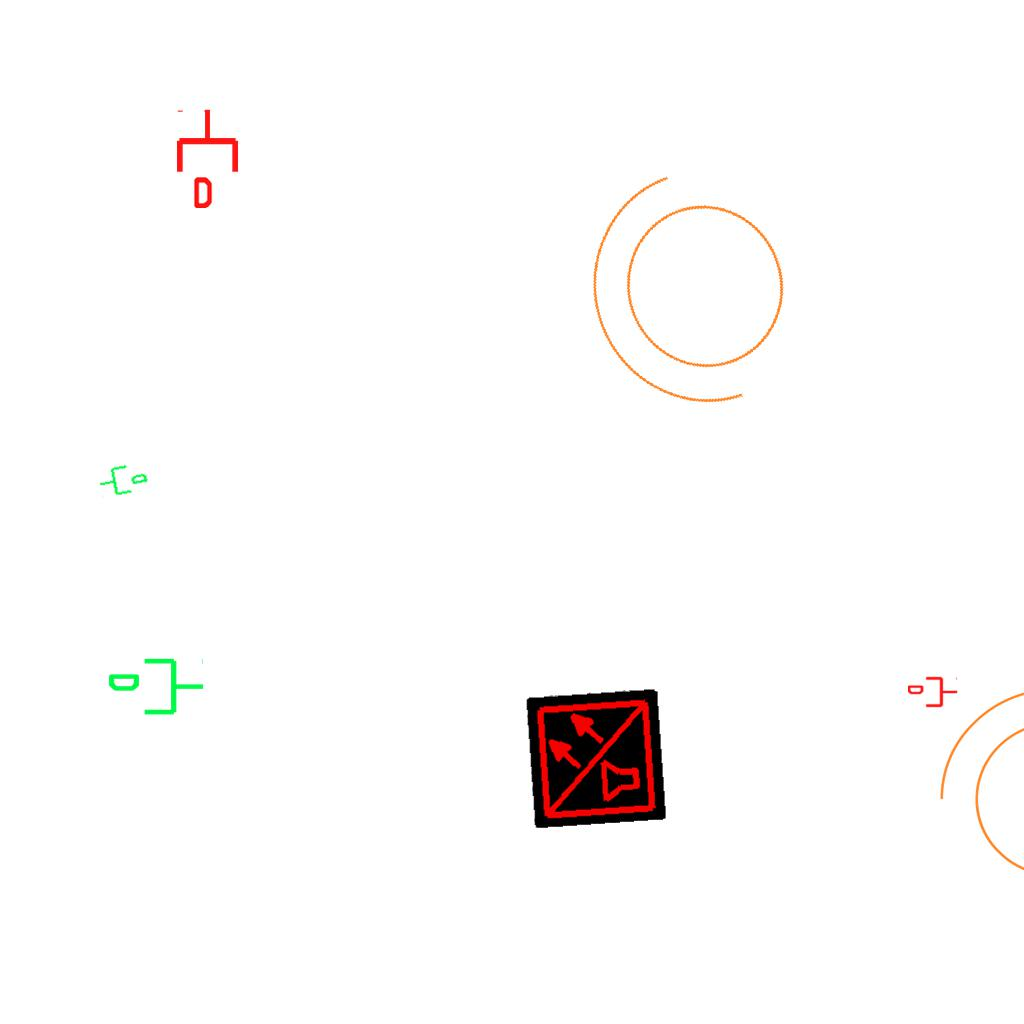Datenanschluss_einfach: (173, 108, 242, 208), (106, 654, 206, 723), (95, 457, 151, 501), (908, 675, 958, 709)
OKW_Multisensormelder_(Kombination_optischer_Rauch-Kahlenmonoxid_Waerme-Melder): (525, 687, 667, 829)
Scheinwerfer_fuer_Alarmbeleuchtung: (548, 134, 848, 457), (918, 677, 1024, 902)
